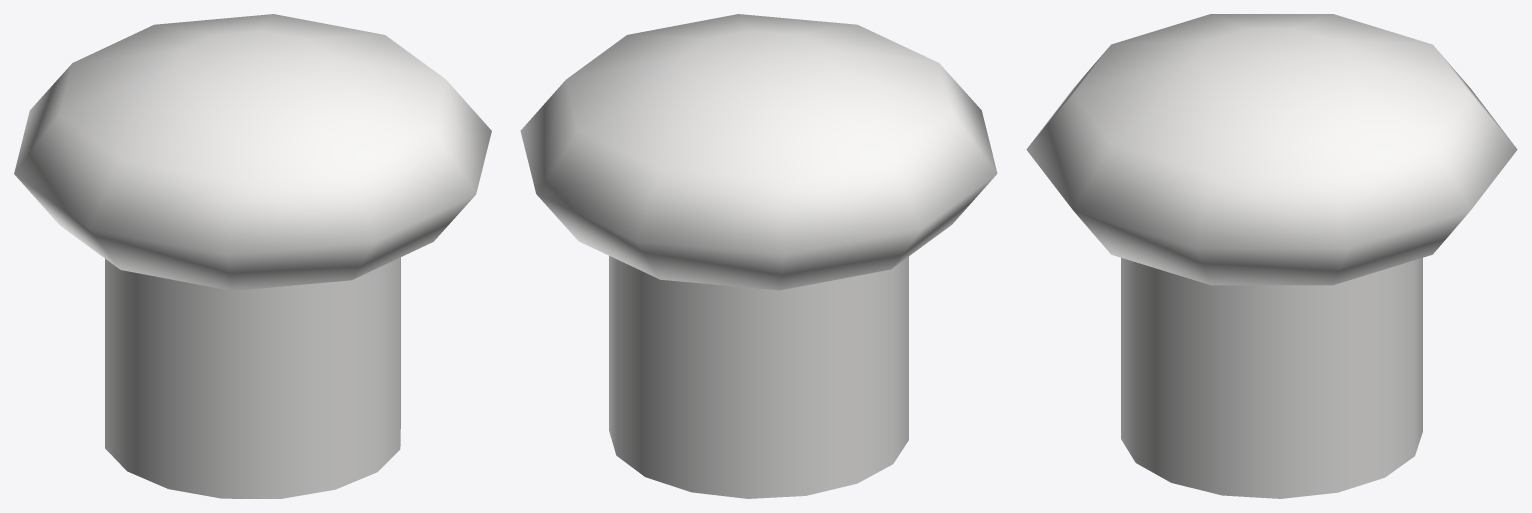
Rendered from Chapeau_Chef.fbx.
The picture shows the model from 3 angles, left to right: view 1: azimuth 30°, elevation 25°; view 2: azimuth 150°, elevation 25°; view 3: azimuth 270°, elevation 25°; orthographic projection.
Parts seen in each view (by area): view 1: Cylinder.003; view 2: Cylinder.003; view 3: Cylinder.003.
Part boxes in pixels (x1,y1,x2,y2): Cylinder.003: [14, 14, 491, 498]; Cylinder.003: [520, 14, 997, 498]; Cylinder.003: [1026, 14, 1517, 498].
Bounding box in the file's own units: 31.88 × 28.63 × 33.52.
